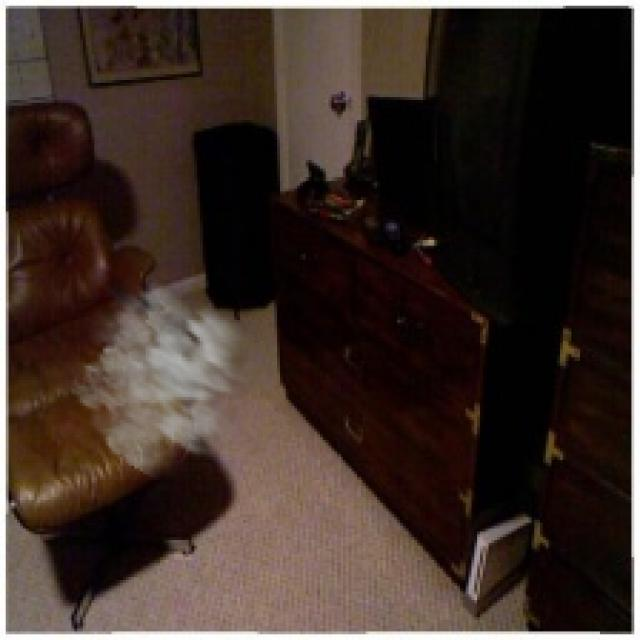smoke: (69, 274, 274, 486)
